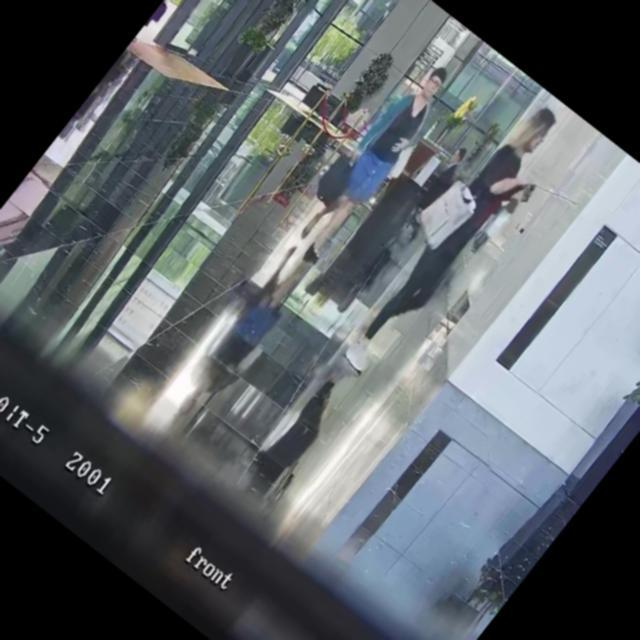person: (344, 98, 576, 374), (282, 53, 464, 269), (413, 145, 473, 215)
